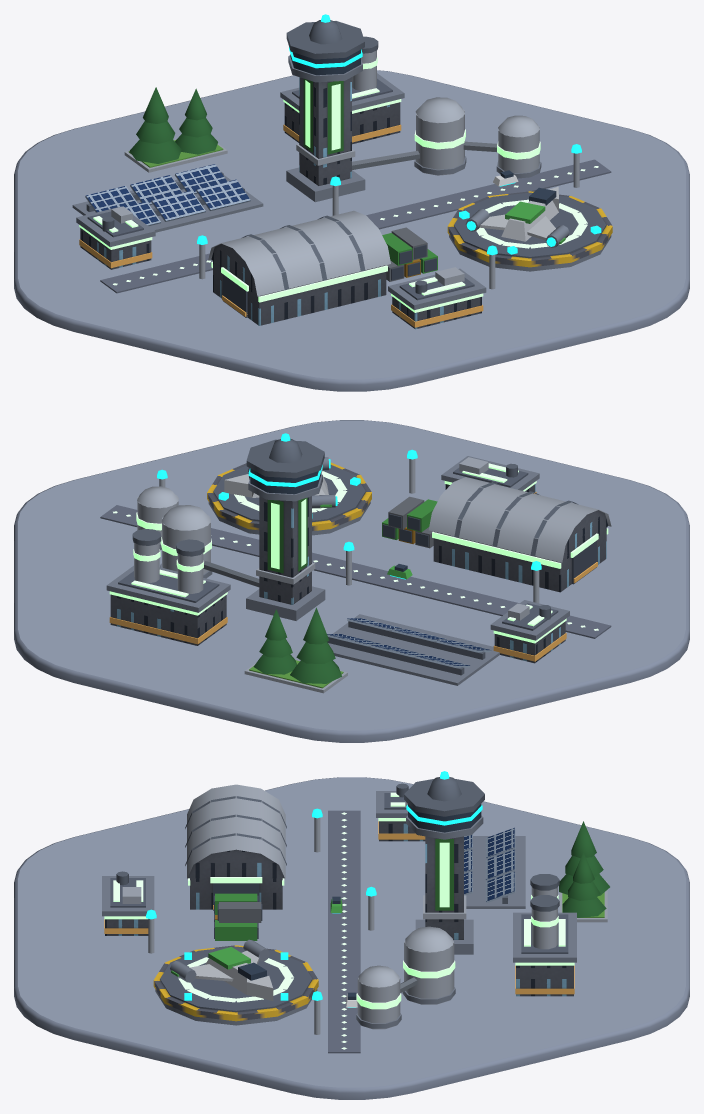
The model's file is district_scifi_c_green.glb.
The picture shows the model from 3 angles, top to bottom: view 1: azimuth 30°, elevation 25°; view 2: azimuth 150°, elevation 25°; view 3: azimuth 270°, elevation 25°; orthographic projection.
Parts seen in each view (by area): view 1: district_scifi_c_green; view 2: district_scifi_c_green; view 3: district_scifi_c_green.
Part boxes in pixels (bbox=[...]): district_scifi_c_green: bbox=[14, 14, 689, 391]; district_scifi_c_green: bbox=[14, 420, 689, 742]; district_scifi_c_green: bbox=[14, 771, 689, 1099].
Bounding box in the file's own units: 1.92 × 0.5199 × 1.75.
3 materials, 1 textured.
